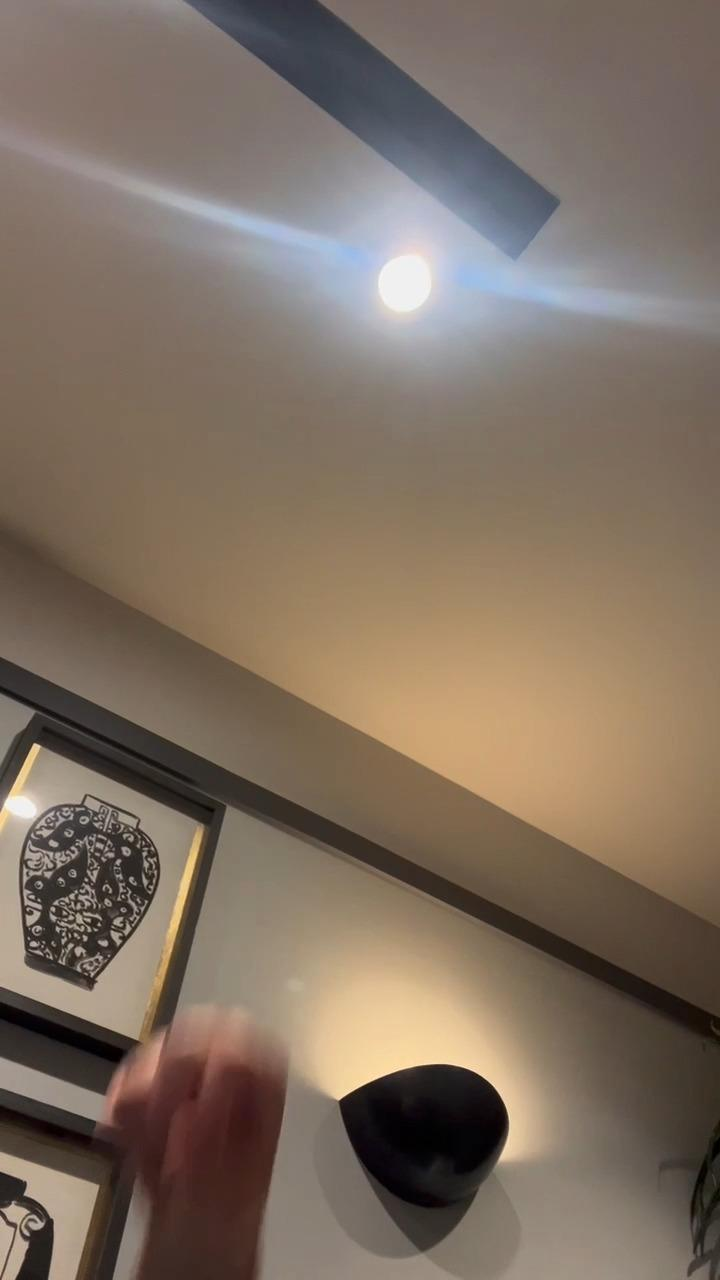Rock: (100, 1012, 284, 1189)
